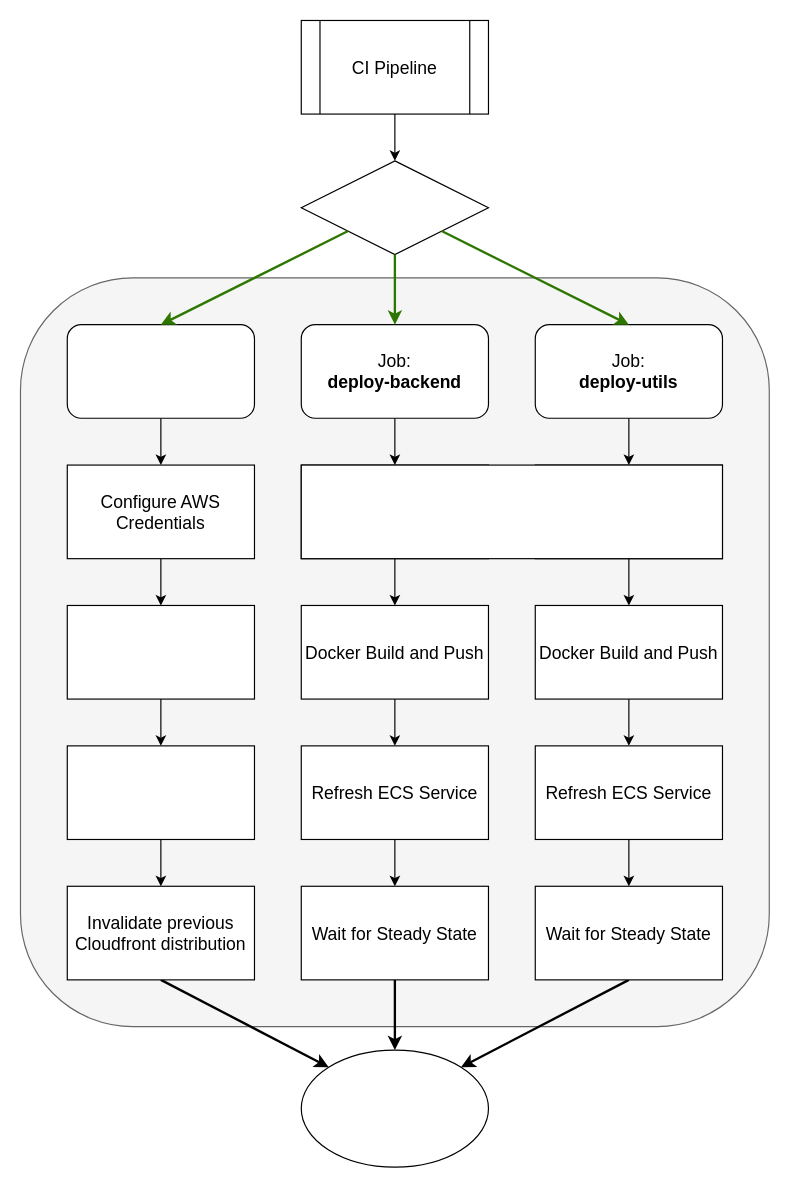
Some shapes in this 790 by 1188 pixel diagram are drawn without their labels. The centre of each missing label's shape, as x and y in pixels:
"Build Frontend npm run build" belongs at [160,651].
"Composite Action: Setup AWS and ECR (.github/actions/aws-setup/action.yaml)" belongs at [511,511].
"Deployed!" belongs at [394,1108].
"Job: deploy-frontend" belongs at [160,371].
"Success?" belongs at [394,207].
"Sync S3 Bucket" belongs at [160,792].
